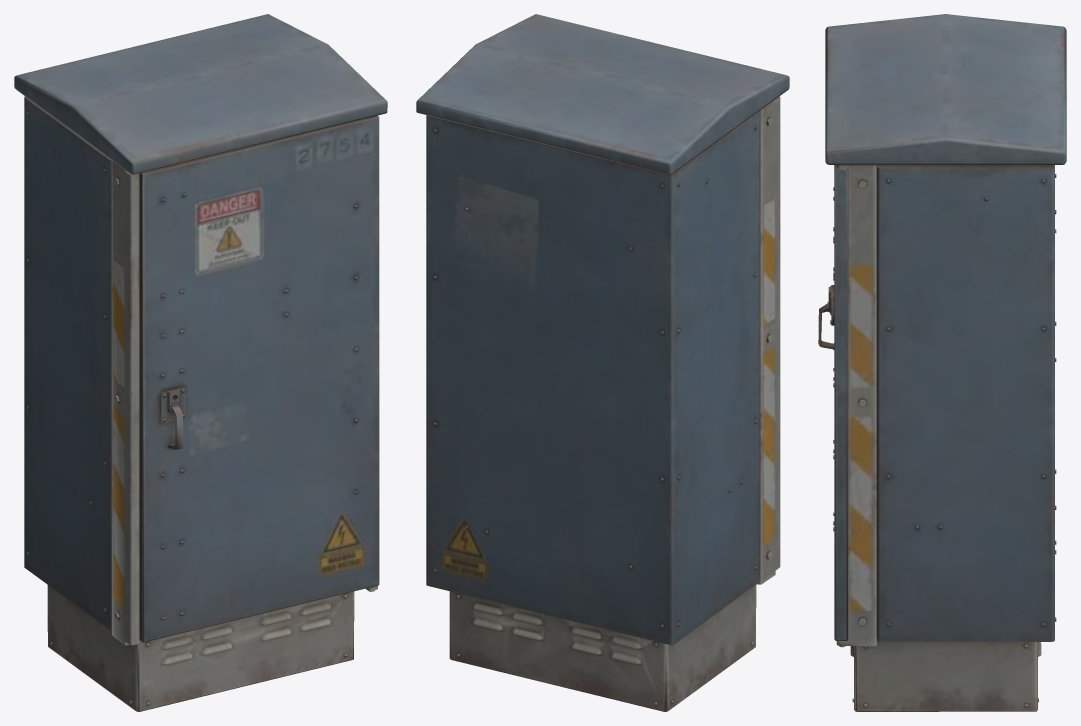
The model's file is utility.glb.
The picture shows the model from 3 angles, left to right: view 1: azimuth 30°, elevation 25°; view 2: azimuth 150°, elevation 25°; view 3: azimuth 270°, elevation 25°; orthographic projection.
Visible parts, largest first — view 1: utility_box_01_box; view 2: utility_box_01_box; view 3: utility_box_01_box.
Boxes of the visible parts, <box> form: utility_box_01_box: <box>14,14,387,711</box>; utility_box_01_box: <box>416,14,789,711</box>; utility_box_01_box: <box>818,14,1066,711</box>.
Bounding box in the file's own units: 0.52 × 1.12 × 0.4319.
1 material, 1 textured.
